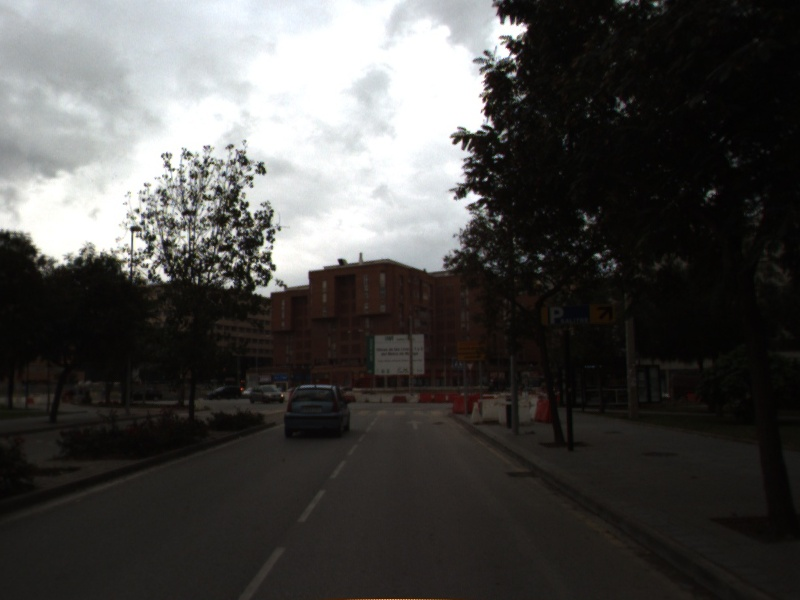STRAIGHT: (403, 417, 426, 432)
